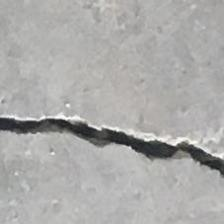Crack: (0, 104, 224, 186)
